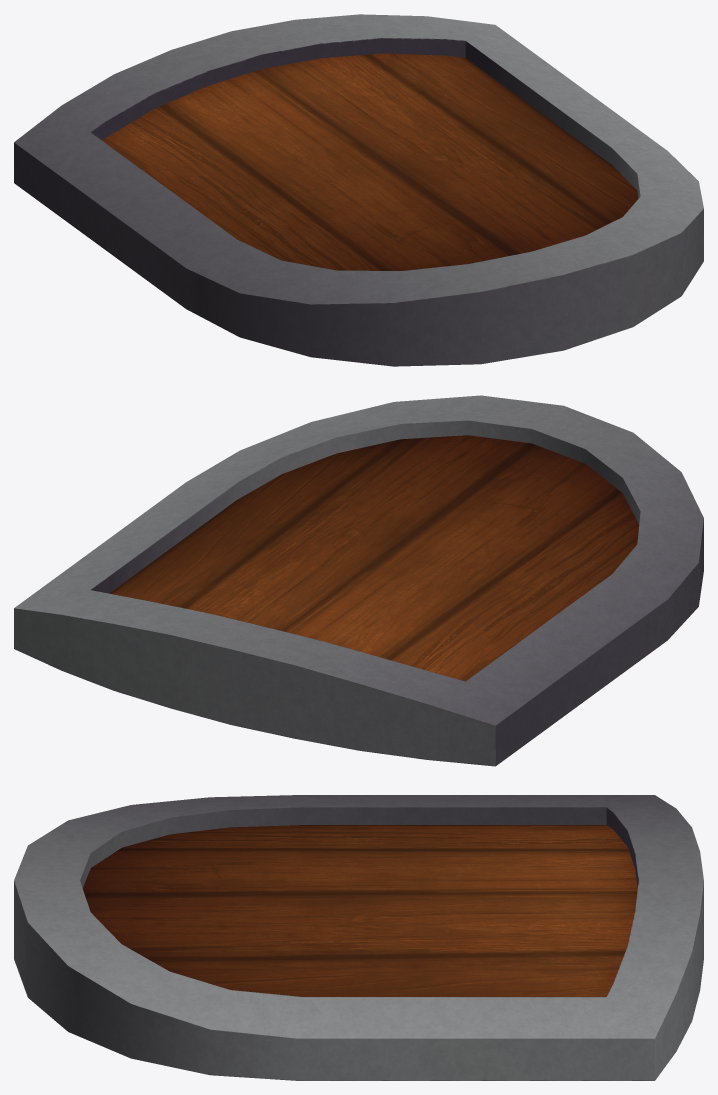
The model's file is Shield.FBX.
The picture shows the model from 3 angles, top to bottom: view 1: azimuth 30°, elevation 25°; view 2: azimuth 150°, elevation 25°; view 3: azimuth 270°, elevation 25°; orthographic projection. The views are drawn at different scales.
Visible parts, largest first — view 1: Shield; view 2: Shield; view 3: Shield.
Boxes of the visible parts, box(x1,y1,x2,y2) form: Shield: box(14, 14, 703, 366); Shield: box(14, 395, 703, 766); Shield: box(14, 795, 703, 1080).
Size of the model in its own units: 28.43 by 4.27 by 34.03.
Materials: 1 (1 with a texture image).
